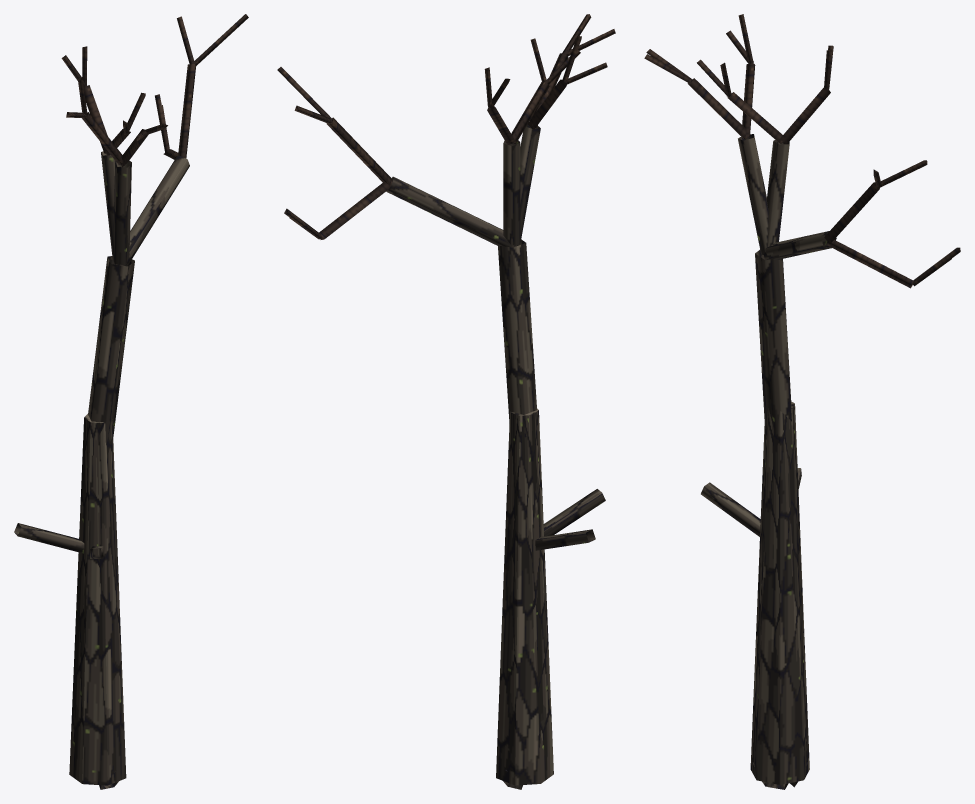
Rendered from VG_Tree_Dead.obj.
3 renders of one model, left to right at view 1: azimuth 30°, elevation 25°; view 2: azimuth 150°, elevation 25°; view 3: azimuth 270°, elevation 25°, orthographic. The views are drawn at different scales.
Parts seen in each view (by area): view 1: VG_Tree_Dead_Mesh_M_Grnd_TreeBark, VG_Tree_Dead_Mesh_M_Hor_WoodDarkened; view 2: VG_Tree_Dead_Mesh_M_Grnd_TreeBark, VG_Tree_Dead_Mesh_M_Hor_WoodDarkened; view 3: VG_Tree_Dead_Mesh_M_Grnd_TreeBark, VG_Tree_Dead_Mesh_M_Hor_WoodDarkened.
Part boxes in pixels (x1,y1,x2,y2): VG_Tree_Dead_Mesh_M_Grnd_TreeBark: [14, 151, 189, 789]; VG_Tree_Dead_Mesh_M_Hor_WoodDarkened: [61, 14, 248, 167]; VG_Tree_Dead_Mesh_M_Grnd_TreeBark: [386, 124, 605, 789]; VG_Tree_Dead_Mesh_M_Hor_WoodDarkened: [277, 14, 615, 239]; VG_Tree_Dead_Mesh_M_Grnd_TreeBark: [701, 134, 836, 789]; VG_Tree_Dead_Mesh_M_Hor_WoodDarkened: [644, 14, 960, 288].
Size of the model in its own units: 2.55 by 6.54 by 2.5.
2 materials, 2 textured.
